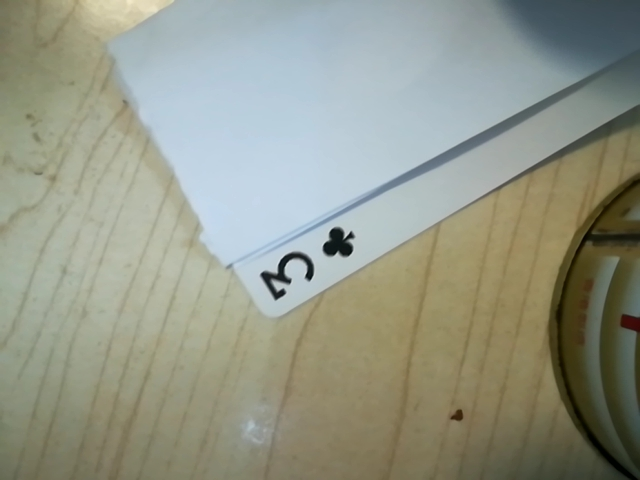mh 3: (250, 215, 370, 308)
